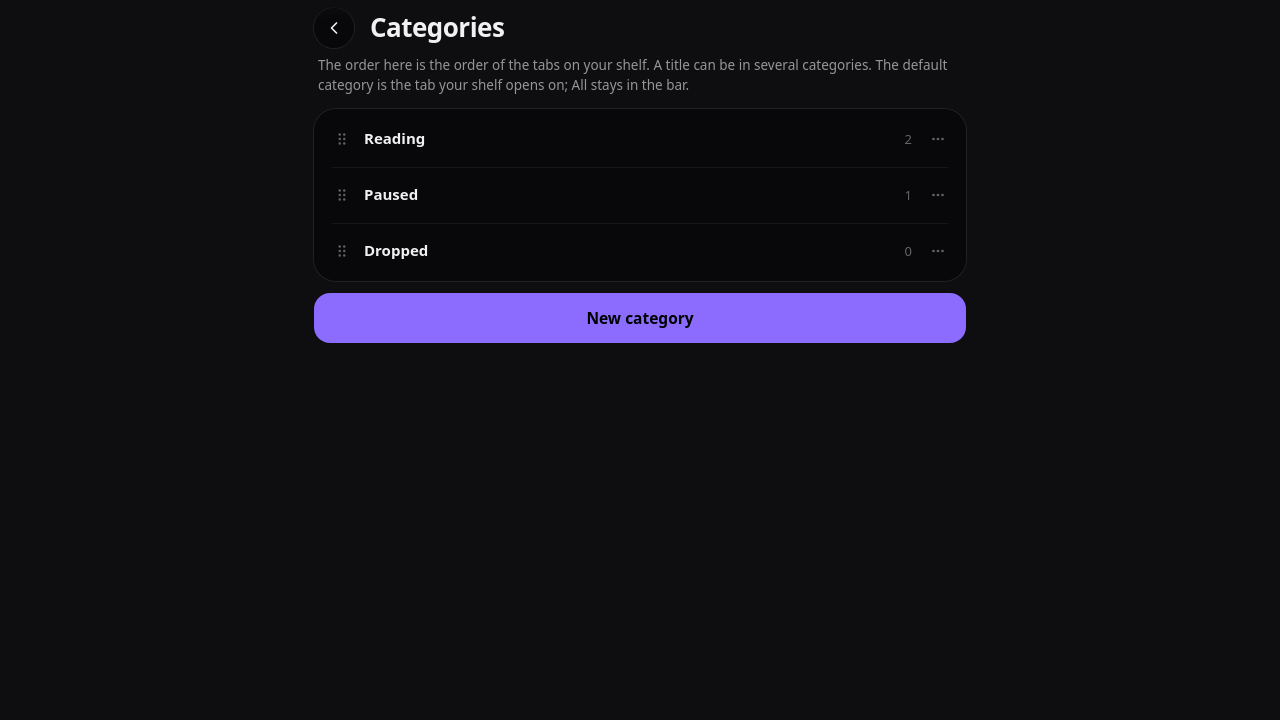
Scenario: creates a category
Click the button "New category": (640, 318) 314,293 -> 966,343
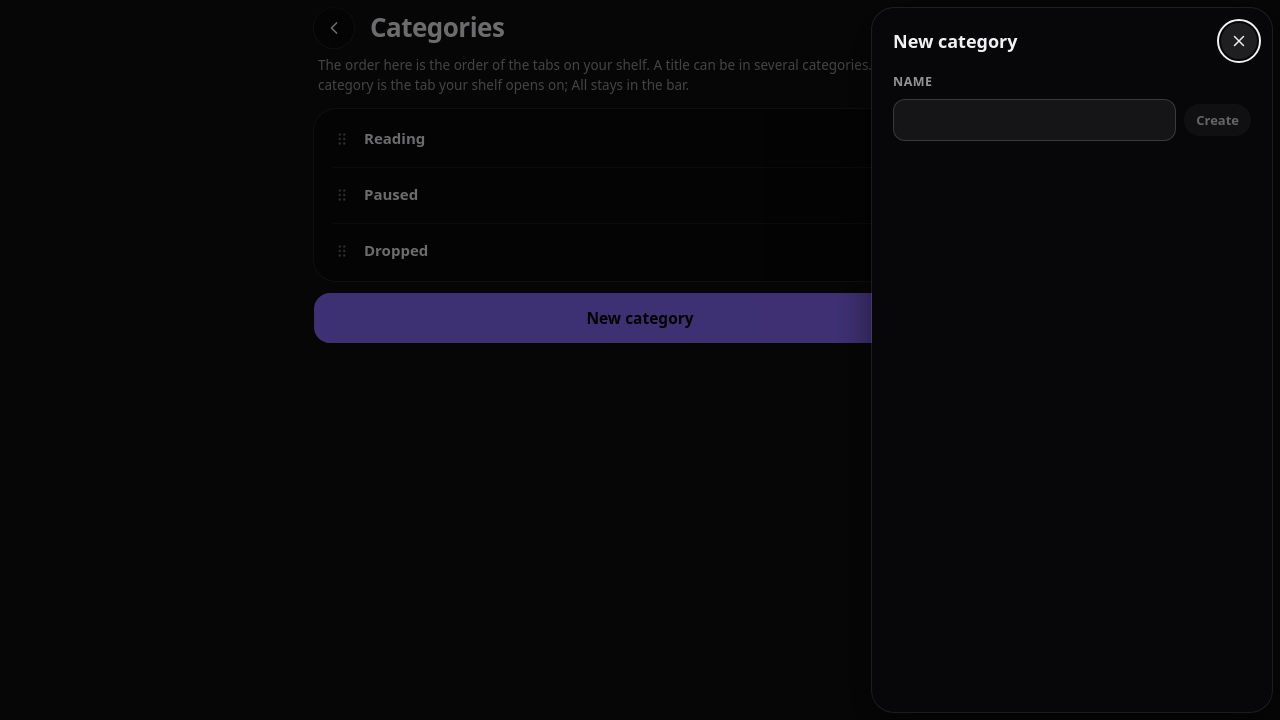
In the field labelled "Name": (1035, 120) 893,99 -> 1176,141, type "To Read"
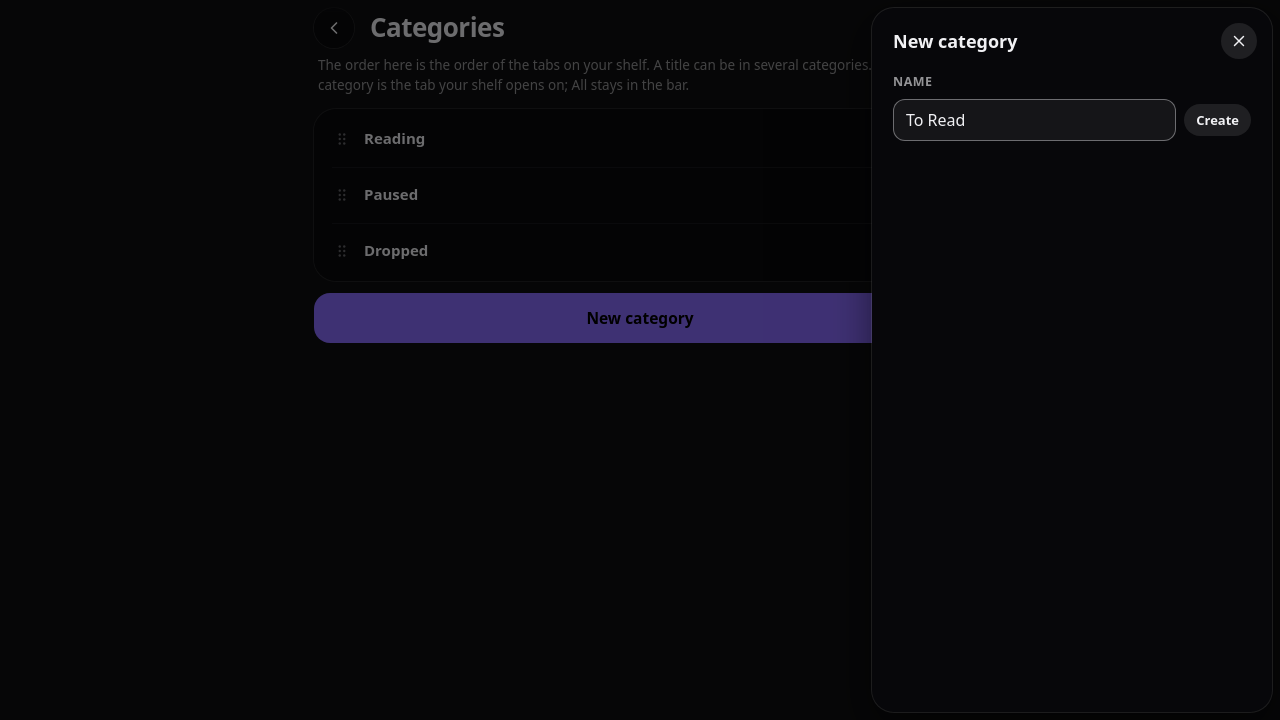
Click the button "Create": (1218, 120) 1184,104 -> 1251,136
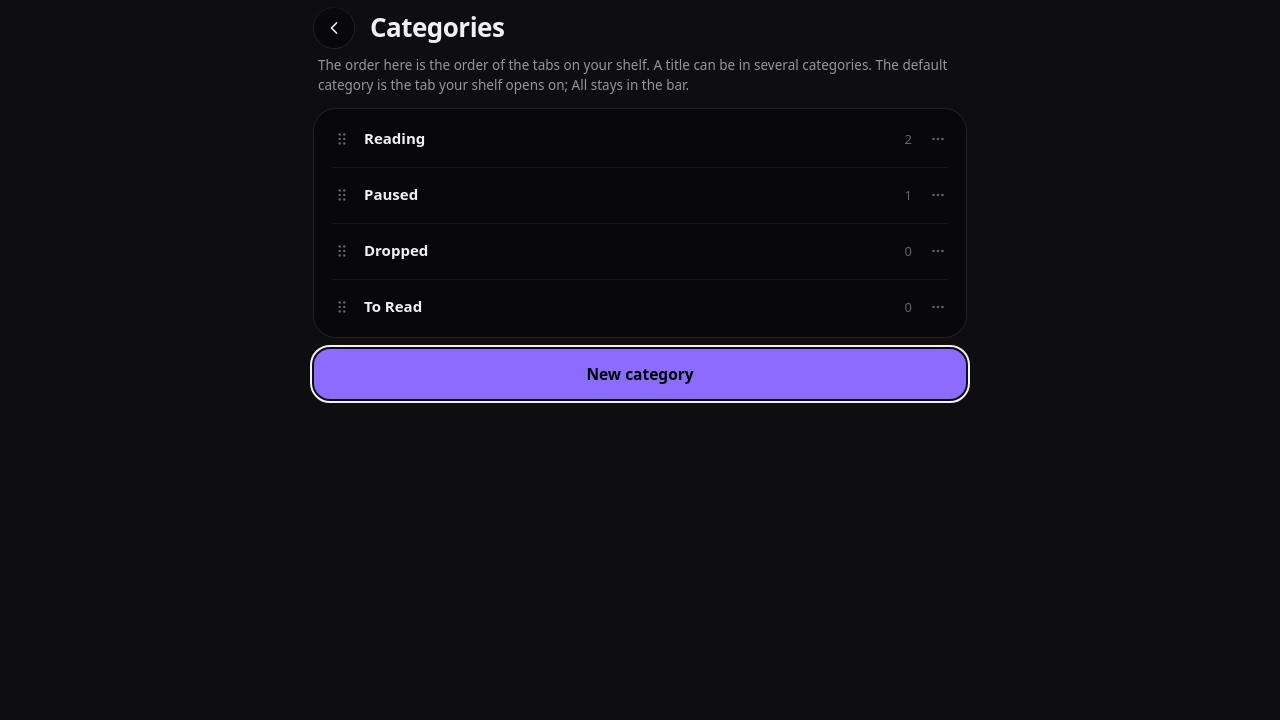
Now the text "To Read" is shown, box 364,296 -> 422,316
